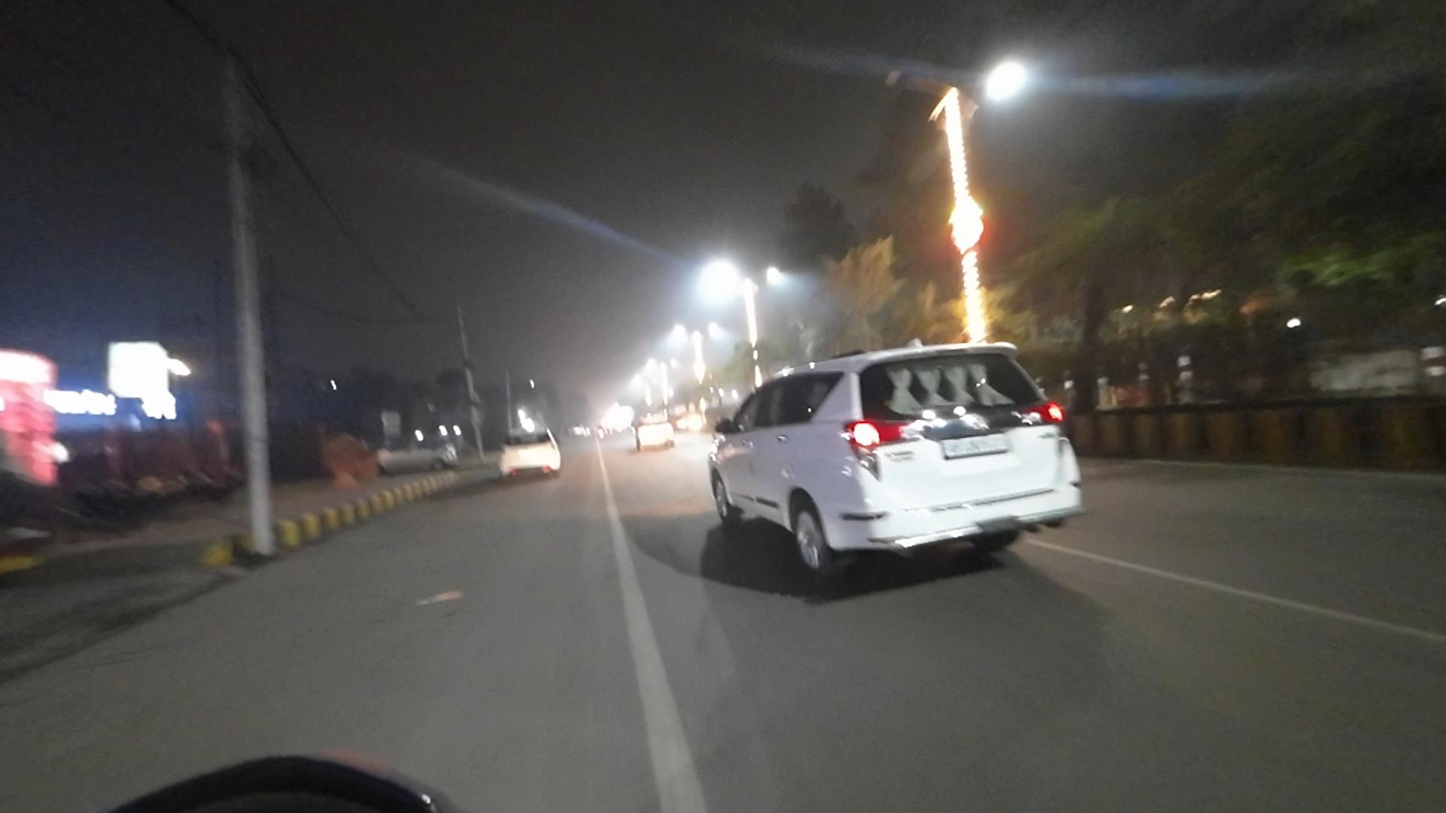streetlight: (884, 69, 941, 95)
